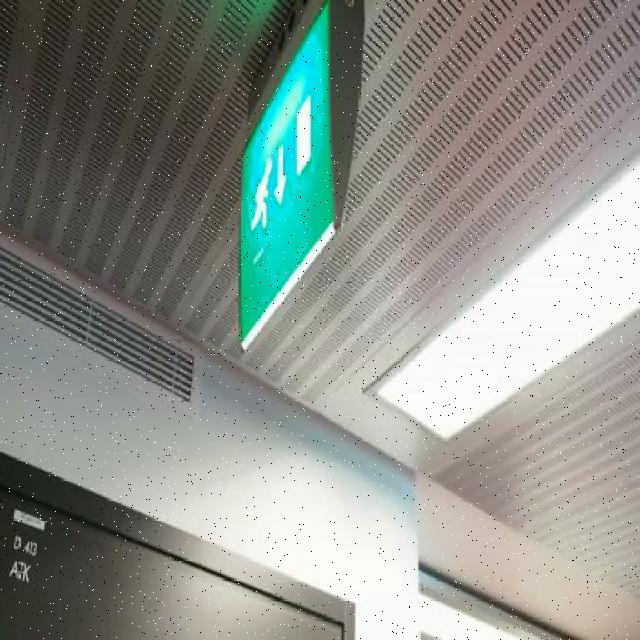emergency_exit: (236, 1, 338, 352)
